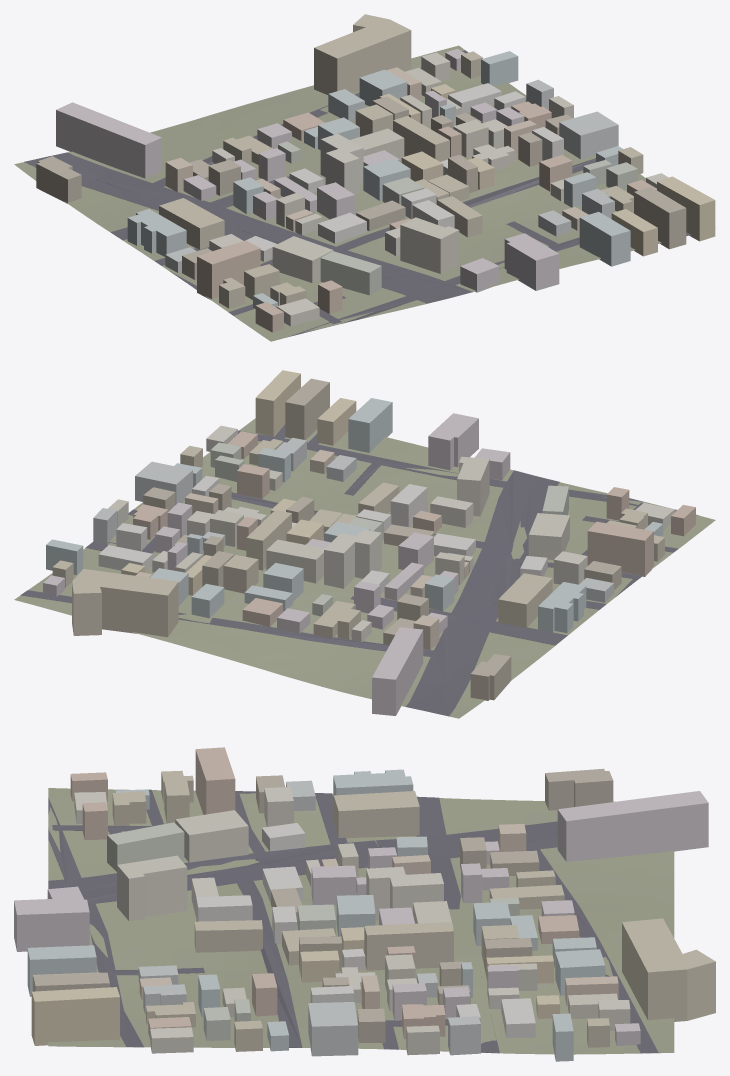
The model's file is chunk_3_8.glb.
3 renders of one model, top to bottom at view 1: azimuth 30°, elevation 25°; view 2: azimuth 150°, elevation 25°; view 3: azimuth 270°, elevation 25°, orthographic. The views are drawn at different scales.
Parts seen in each view (by area): view 1: geometry_116, geometry_4, geometry_18, geometry_134, geometry_16, geometry_17, geometry_10, geometry_77, geometry_81, geometry_43, geometry_78, geometry_0 (+61 smaller); view 2: geometry_116, geometry_4, geometry_134, geometry_18, geometry_10, geometry_43, geometry_132, geometry_17, geometry_130, geometry_9, geometry_77, geometry_74 (+56 smaller); view 3: geometry_116, geometry_18, geometry_4, geometry_74, geometry_16, geometry_9, geometry_17, geometry_39, geometry_8, geometry_43, geometry_78, geometry_5 (+90 smaller).
Part boxes in pixels (x1,y1,x2,y2): geometry_116: [14, 45, 715, 341]; geometry_4: [314, 14, 411, 94]; geometry_18: [56, 102, 161, 178]; geometry_134: [205, 207, 472, 297]; geometry_16: [400, 217, 459, 273]; geometry_17: [504, 233, 559, 290]; geometry_10: [197, 240, 260, 299]; geometry_77: [634, 187, 686, 249]; geometry_81: [579, 212, 630, 266]; geometry_43: [320, 133, 363, 194]; geometry_78: [559, 111, 618, 159]; geometry_0: [127, 209, 186, 256]; geometry_116: [14, 418, 715, 718]; geometry_4: [72, 569, 178, 637]; geometry_134: [451, 470, 535, 621]; geometry_18: [372, 627, 423, 715]; geometry_10: [587, 521, 653, 576]; geometry_43: [324, 529, 381, 588]; geometry_132: [405, 620, 473, 711]; geometry_17: [428, 413, 478, 470]; geometry_130: [423, 623, 492, 716]; geometry_9: [498, 573, 552, 627]; geometry_77: [285, 378, 329, 439]; geometry_74: [255, 370, 300, 436]; geometry_116: [48, 788, 674, 1054]; geometry_18: [557, 791, 708, 861]; geometry_4: [622, 918, 715, 1021]; geometry_74: [31, 987, 119, 1045]; geometry_16: [117, 855, 187, 920]; geometry_9: [333, 791, 419, 838]; geometry_17: [14, 898, 89, 951]; geometry_39: [364, 922, 453, 970]; geometry_8: [175, 810, 248, 862]; geometry_43: [366, 866, 443, 920]; geometry_78: [308, 1002, 358, 1056]; geometry_5: [107, 822, 184, 871].
Bounding box in the file's own units: 260 × 27.76 × 280.
